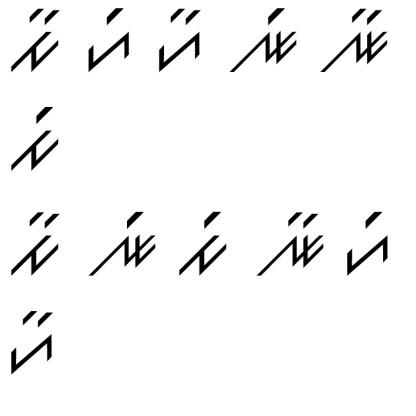han: (6, 306, 60, 378), (153, 5, 207, 74)
hang: (340, 206, 393, 278), (83, 7, 132, 73)
mban: (9, 209, 67, 278), (10, 6, 63, 74)
mbang: (176, 207, 232, 280), (10, 102, 64, 175)
ndan: (254, 205, 326, 279), (320, 6, 391, 80)
ndang: (224, 6, 300, 77), (89, 206, 156, 280)
